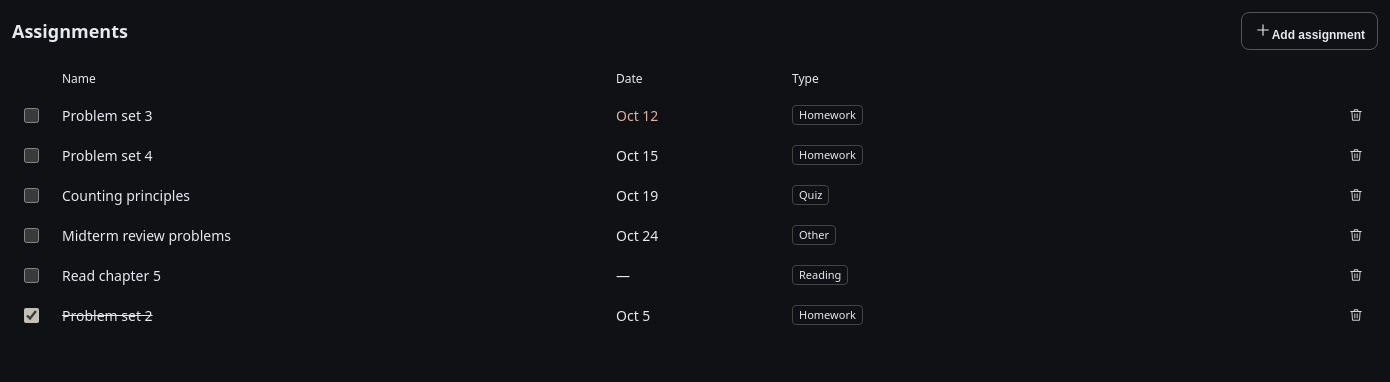
supports keyboard navigation and dismissal without changing the saved type
Press ArrowDown in the button with aria-label "Edit type for Problem set 3", box [788,99,1326,131]
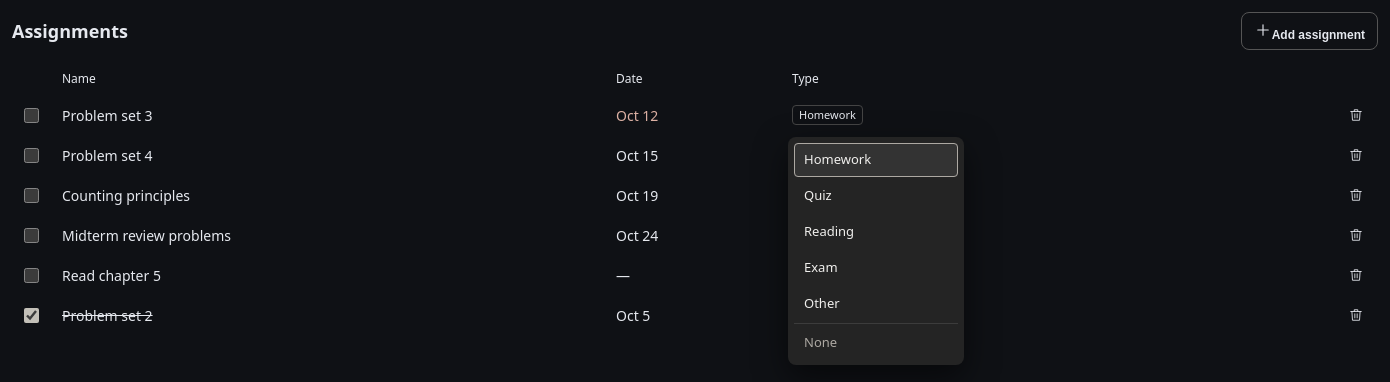
Press ArrowDown in the option "Homework", box [794,143,958,177]
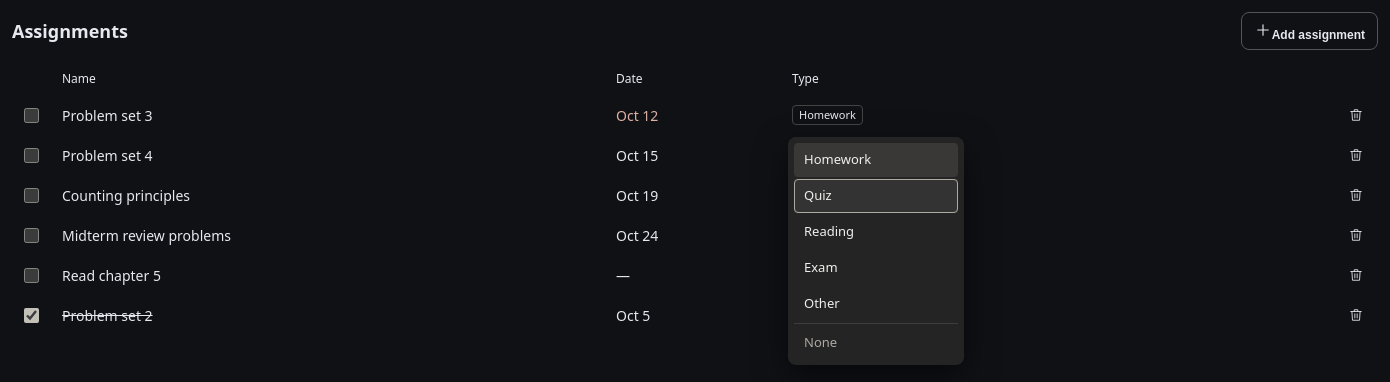
Press r in the option "Quiz", box [794,179,958,213]
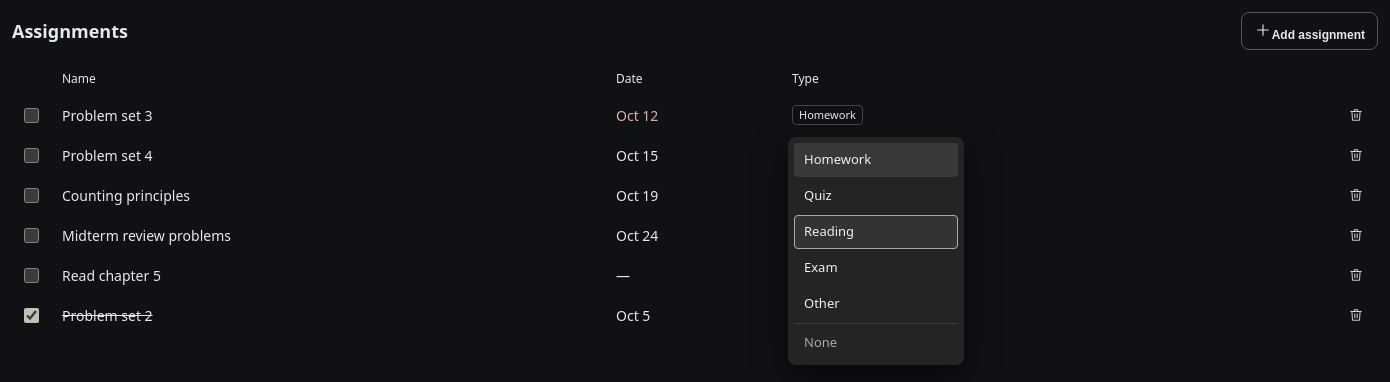
Press Escape in the option "Reading", box [794,215,958,249]
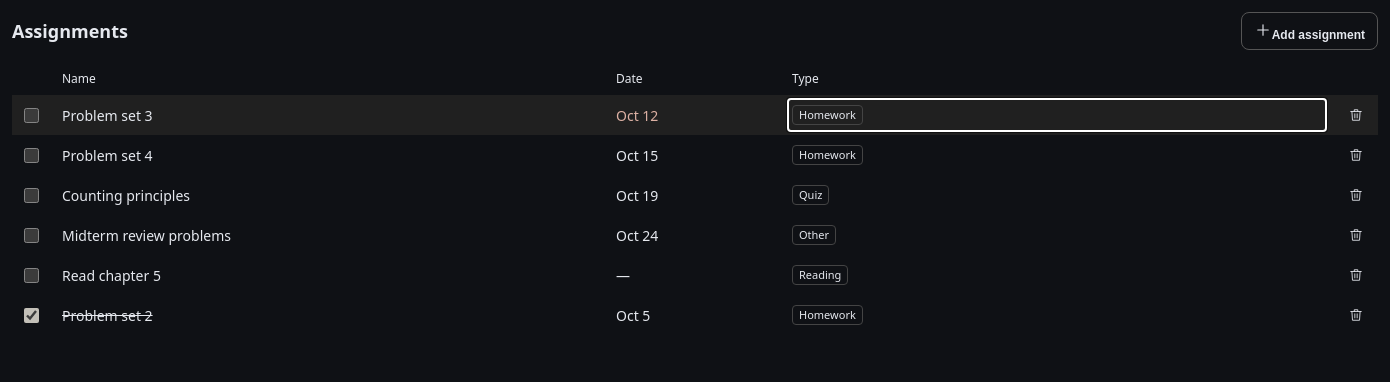
Click the button with aria-label "Edit type for Problem set 3": x=827, y=115 [788,99,1326,131]
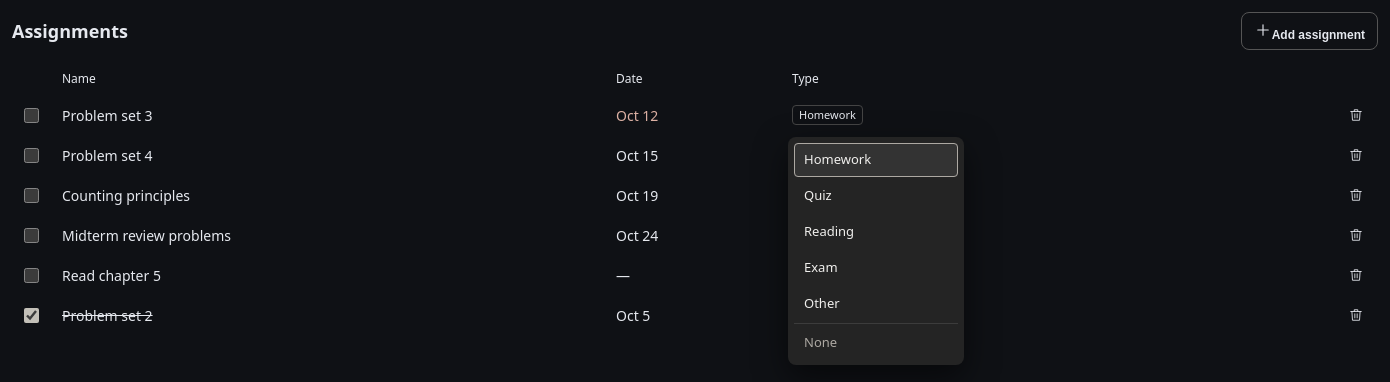
Press the mouse on the heading "Assignments": x=70, y=31 [12,19,128,43]
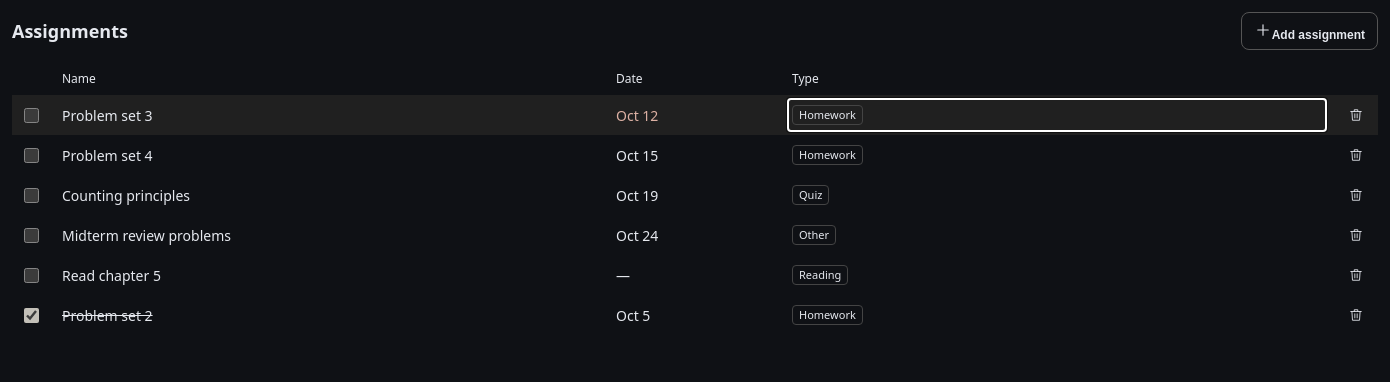
Check: the button with aria-label "Edit type for Problem set 3" reads "Homework", box [788,99,1326,131]
Check: the list is gone
